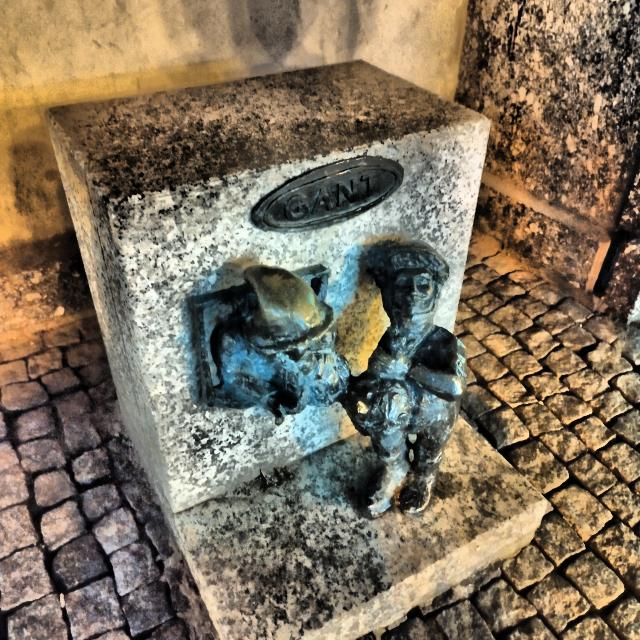Kantorki: (188, 240, 466, 515)
